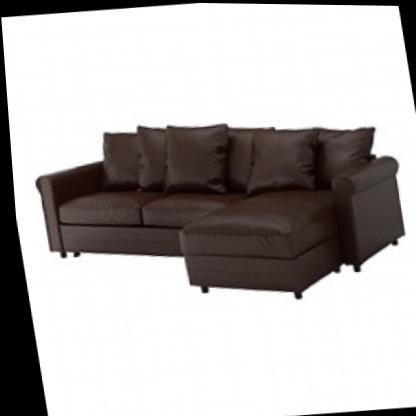Sofa: (14, 92, 416, 322)
